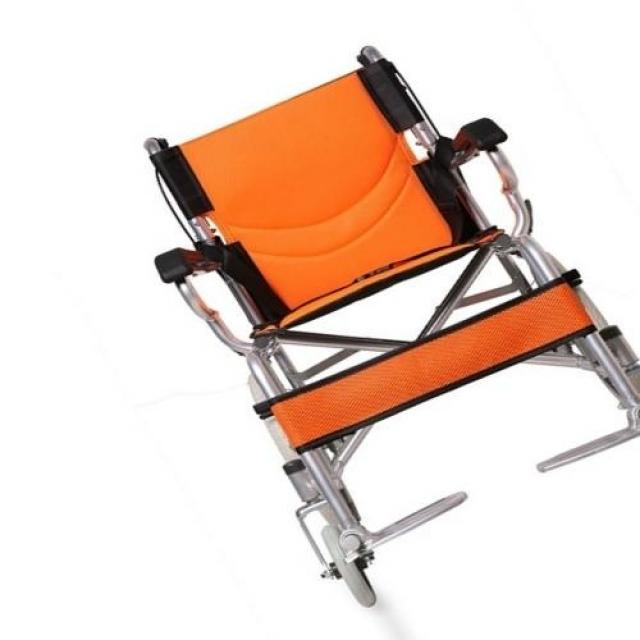wheelchair: (128, 23, 640, 611)
